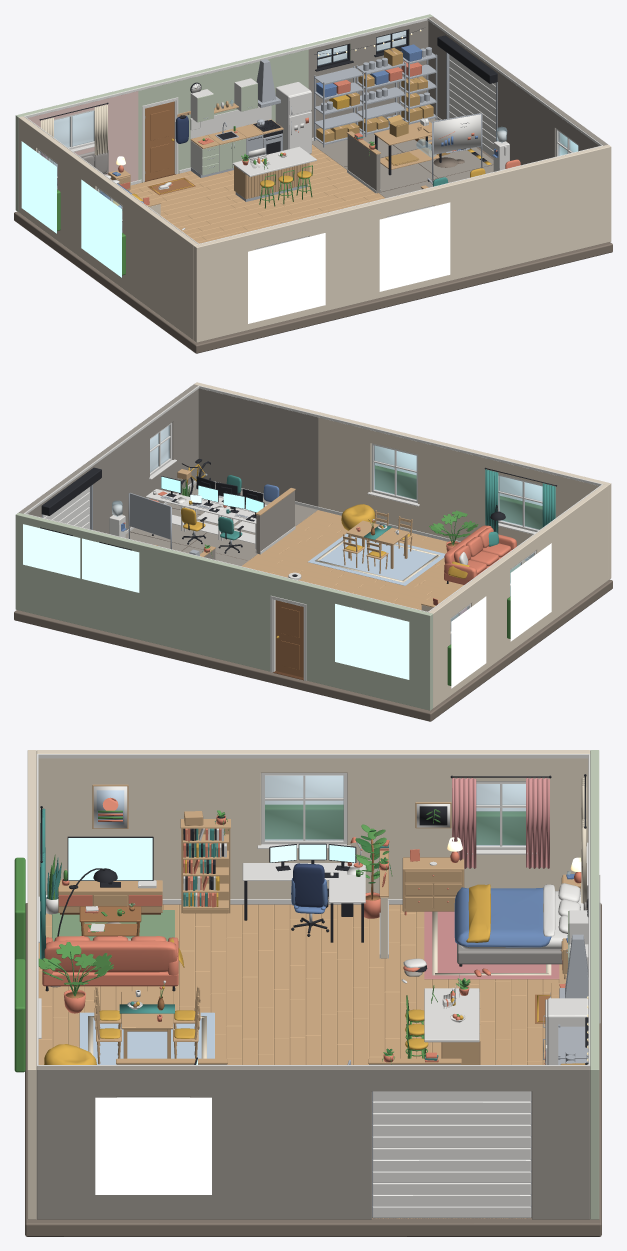
File: tier4.glb
The picture shows the model from 3 angles, top to bottom: view 1: azimuth 30°, elevation 25°; view 2: azimuth 150°, elevation 25°; view 3: azimuth 270°, elevation 25°; orthographic projection. The views are drawn at different scales.
Parts seen in each view (by area): view 1: wall_s, wall_w, wall_s_decor_mesh, floor, garage_mesh, wall_n_decor_mesh, wall_n_trim, slab, wall_e, wall_n, wall_w_decor_mesh, kitchen_fridge_mesh (+10 smaller); view 2: wall_n, wall_s, wall_s_trim, wall_w, wall_n_decor_mesh, wall_e, floor, slab, floor_decor_mesh, wall_s_decor_mesh, wall_w_decor_mesh, wall_e_decor_mesh (+14 smaller); view 3: wall_e, floor, wall_w, wall_e_decor_mesh, wall_w_decor_mesh, slab, living_wall_mesh, floor_decor_mesh, bed_mesh, computer_mesh, sofa_mesh, island_mesh (+19 smaller).
Boxes of the visible parts, x1=… form: wall_s: x1=194, y1=144, x2=611, y2=342; wall_w: x1=18, y1=116, x2=198, y2=340; wall_s_decor_mesh: x1=248, y1=202, x2=450, y2=323; floor: x1=129, y1=144, x2=385, y2=243; garage_mesh: x1=314, y1=44, x2=437, y2=147; wall_n_decor_mesh: x1=39, y1=17, x2=423, y2=163; wall_n_trim: x1=24, y1=17, x2=428, y2=185; slab: x1=14, y1=147, x2=612, y2=353; wall_e: x1=428, y1=16, x2=607, y2=165; wall_n: x1=15, y1=14, x2=432, y2=211; wall_w_decor_mesh: x1=21, y1=141, x2=125, y2=277; kitchen_fridge_mesh: x1=190, y1=82, x2=311, y2=177; wall_n: x1=15, y1=512, x2=432, y2=710; wall_s: x1=194, y1=382, x2=611, y2=579; wall_s_trim: x1=198, y1=385, x2=602, y2=560; wall_w: x1=428, y1=484, x2=608, y2=708; wall_n_decor_mesh: x1=23, y1=524, x2=409, y2=679; wall_e: x1=19, y1=384, x2=198, y2=533; floor: x1=241, y1=510, x2=526, y2=610; slab: x1=14, y1=579, x2=612, y2=721; floor_decor_mesh: x1=125, y1=483, x2=519, y2=595; wall_s_decor_mesh: x1=367, y1=443, x2=556, y2=534; wall_w_decor_mesh: x1=447, y1=543, x2=551, y2=688; wall_e_decor_mesh: x1=41, y1=422, x2=176, y2=529; wall_e: x1=36, y1=1066, x2=590, y2=1219; floor: x1=38, y1=904, x2=566, y2=1218; wall_w: x1=36, y1=750, x2=590, y2=899; wall_e_decor_mesh: x1=95, y1=1091, x2=531, y2=1217; wall_w_decor_mesh: x1=92, y1=773, x2=551, y2=868; slab: x1=25, y1=903, x2=601, y2=1236; living_wall_mesh: x1=46, y1=810, x2=230, y2=914; floor_decor_mesh: x1=52, y1=910, x2=559, y2=1064; bed_mesh: x1=454, y1=883, x2=588, y2=966; computer_mesh: x1=242, y1=837, x2=365, y2=942; sofa_mesh: x1=42, y1=868, x2=184, y2=991; island_mesh: x1=405, y1=975, x2=480, y2=1064.
Size of the model in its own units: 12.74 by 3 by 9.74.
